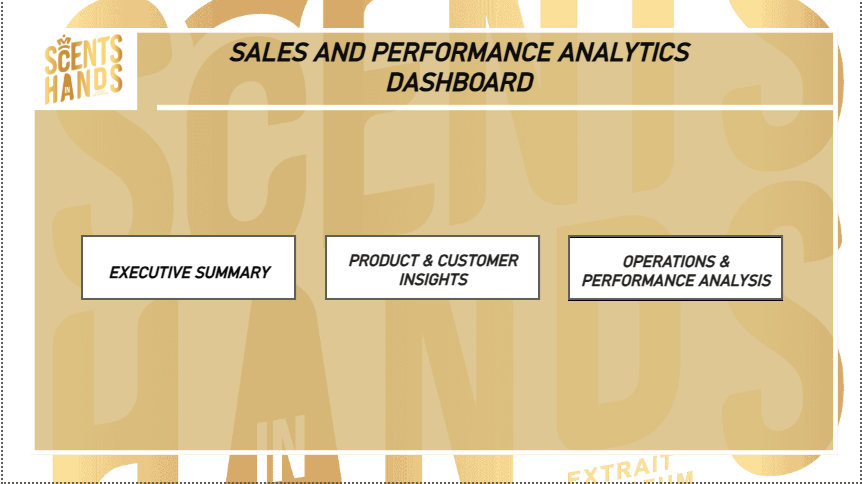

This screenshot's page, from the dashboard's own definition file:
{"tool":"powerbi","page":{"name":"Scents In Hands (Cover Page)","canvas":[1280,720],"ordinal":0},"visuals":[{"type":"shape","box":[40,41.4,1205.7,637.1],"z":0},{"type":"textbox","box":[115.7,351.4,321.4,97.1],"z":1000},{"type":"image","box":[40,42.9,160,121.4],"z":2000},{"type":"textbox","box":[480,351.4,321.4,97.1],"z":3000},{"type":"shape","box":[230,10,1012.9,300],"z":4000},{"type":"textbox","box":[842.9,351.7,321.4,97.1],"z":5000},{"type":"textbox","box":[305.7,51.4,747.1,101.4],"z":6000},{"type":"actionButton","box":[116.4,350.7,320.9,97],"z":6001},{"type":"actionButton","box":[480.6,350.7,320.9,97],"z":6002},{"type":"actionButton","box":[843.3,350.7,320.9,97],"z":6003}]}

Visuals, with their boxes in screenshot pixels (x1, y1, x2, y2), scaled from the page's 1280x720 canvas onto the 862x484 screenshot:
shape: crop(27, 28, 839, 456)
textbox: crop(78, 236, 294, 301)
image: crop(27, 29, 135, 110)
textbox: crop(323, 236, 540, 301)
shape: crop(155, 7, 837, 208)
textbox: crop(568, 236, 784, 302)
textbox: crop(206, 35, 709, 103)
actionButton: crop(78, 236, 294, 301)
actionButton: crop(324, 236, 540, 301)
actionButton: crop(568, 236, 784, 301)
